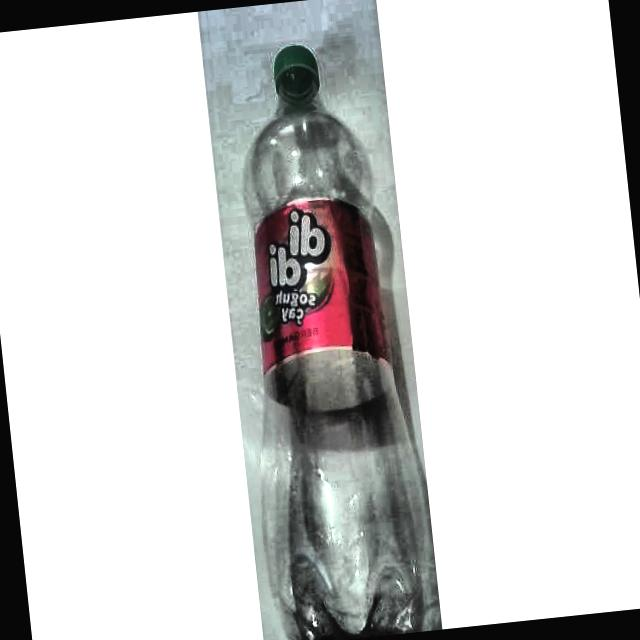plastic bottle: (243, 45, 430, 640)
